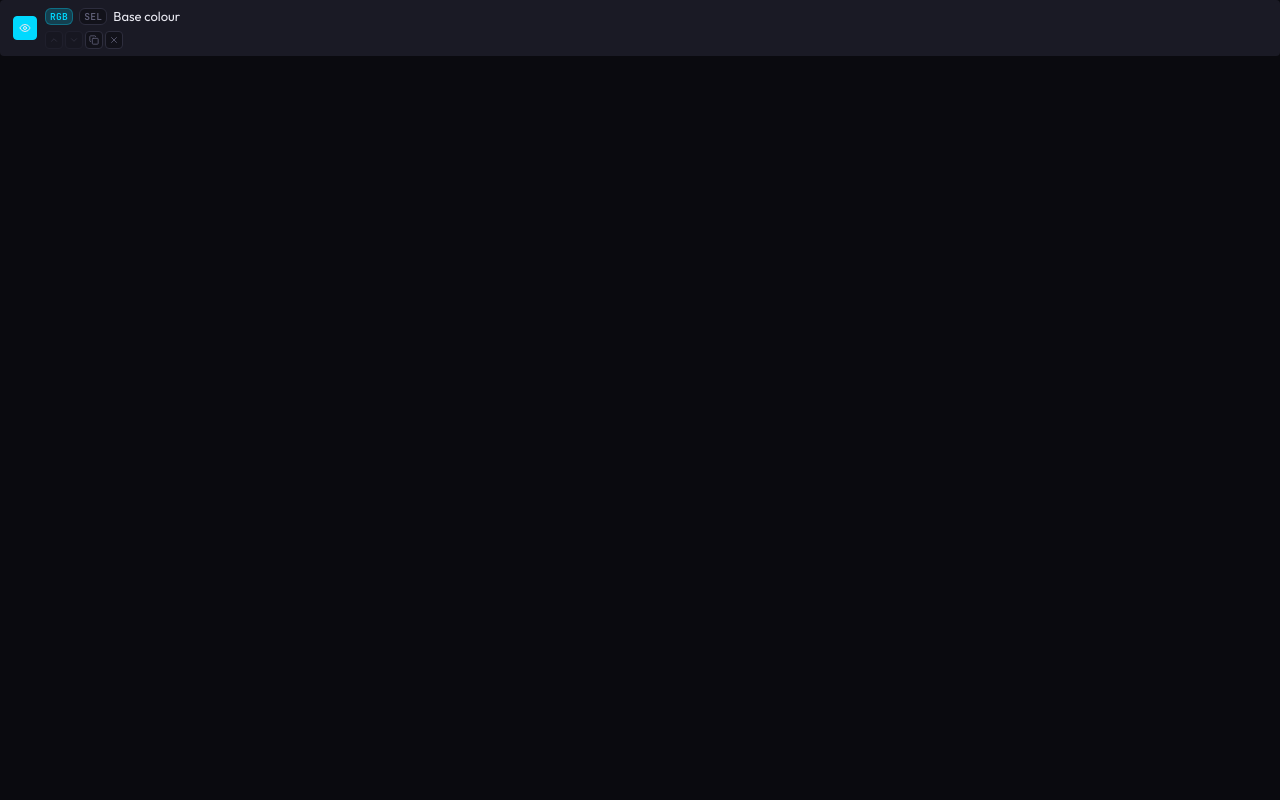
Test: the colour-source badge (plan 13) › the channel badge's menu carries the source section too, and stays one menu
Click the button with aria-label "Channel:" at (59, 17), box top-left (45, 8), bottom-right (73, 25)
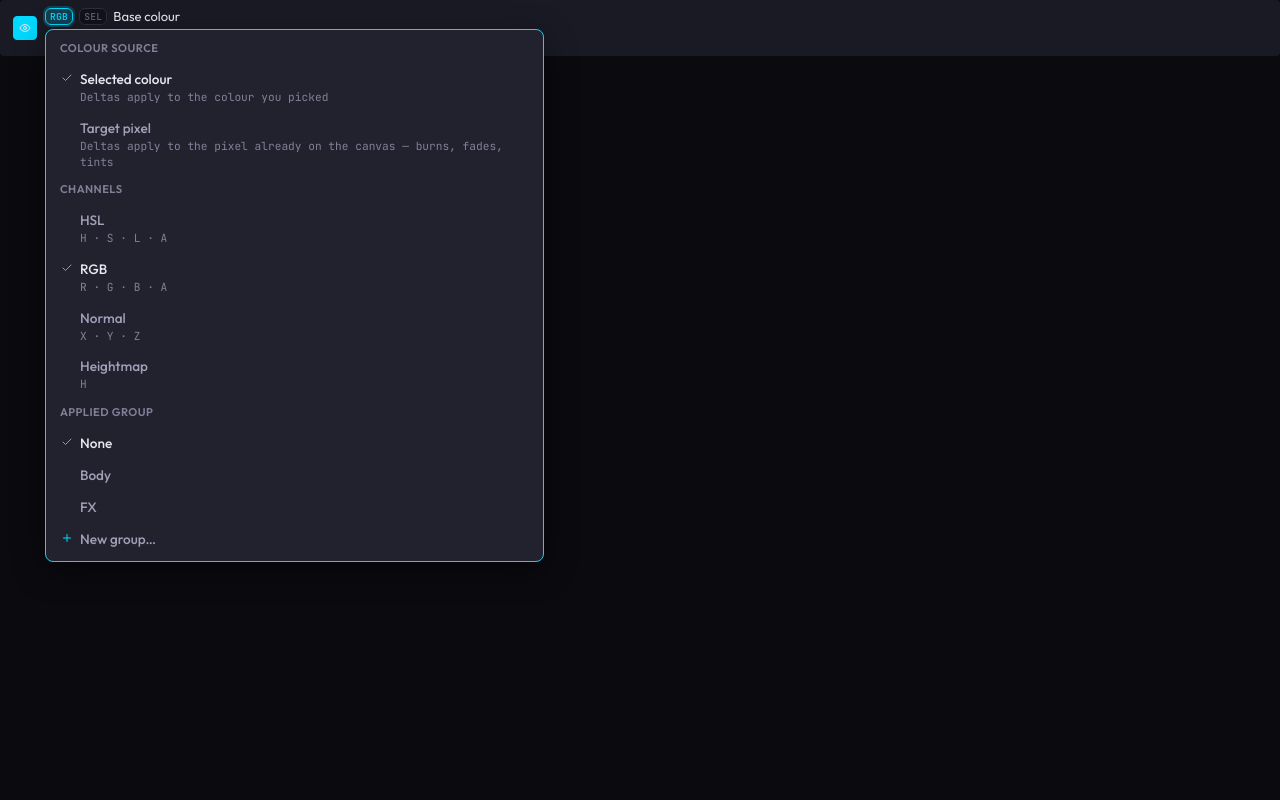
Check: the button with aria-label "Channel:" is expanded, box top-left (45, 8), bottom-right (73, 25)
Check: the number of menus is 1, box top-left (45, 30), bottom-right (544, 562)
Pressing the other badge while open re-anchors rather than stacking.
Click the button with aria-label "Colour source:" at (93, 17), box top-left (79, 8), bottom-right (107, 25)
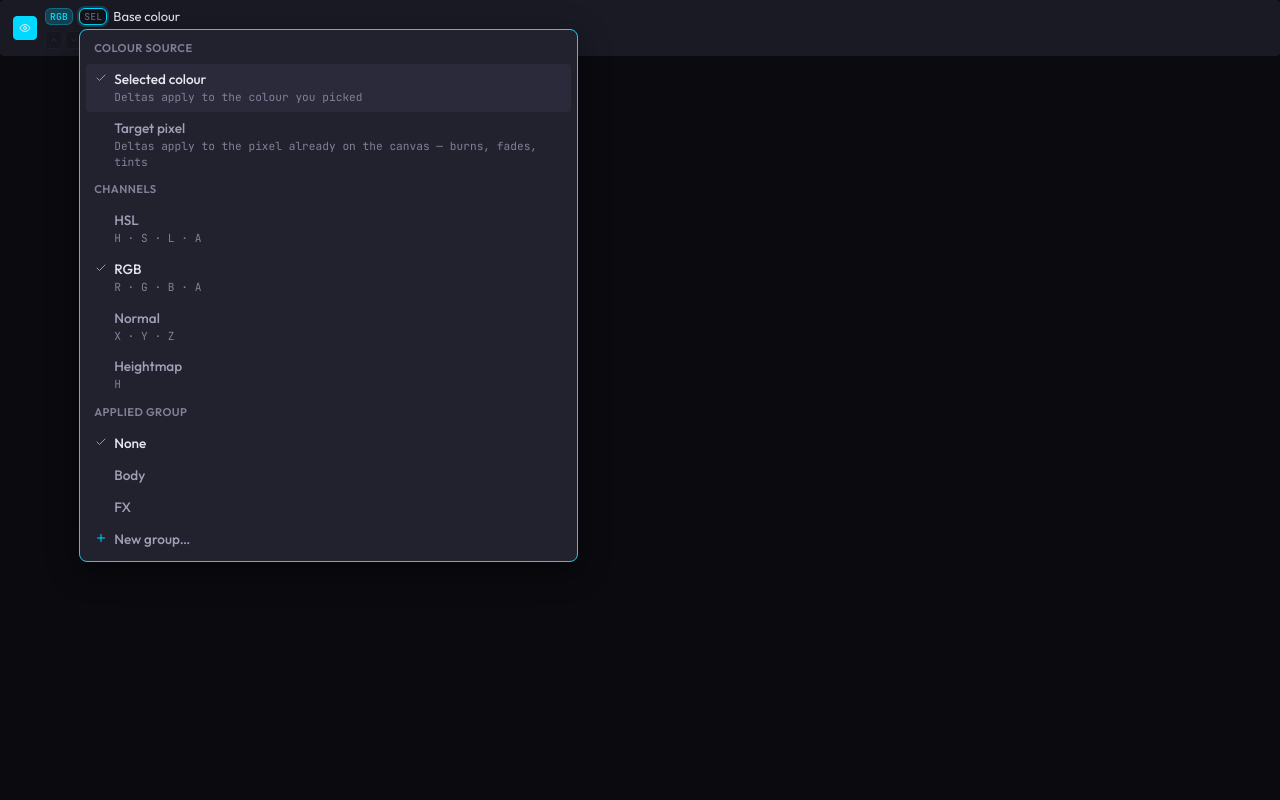
Check: the number of menus is 1, box top-left (79, 30), bottom-right (578, 562)
Check: the button with aria-label "Colour source:" is expanded
Check: the button with aria-label "Channel:" is collapsed, box top-left (45, 8), bottom-right (73, 25)
And its own second press toggles it shut, like the channel badge.
Click the button with aria-label "Colour source:" at (93, 17), box top-left (79, 8), bottom-right (107, 25)
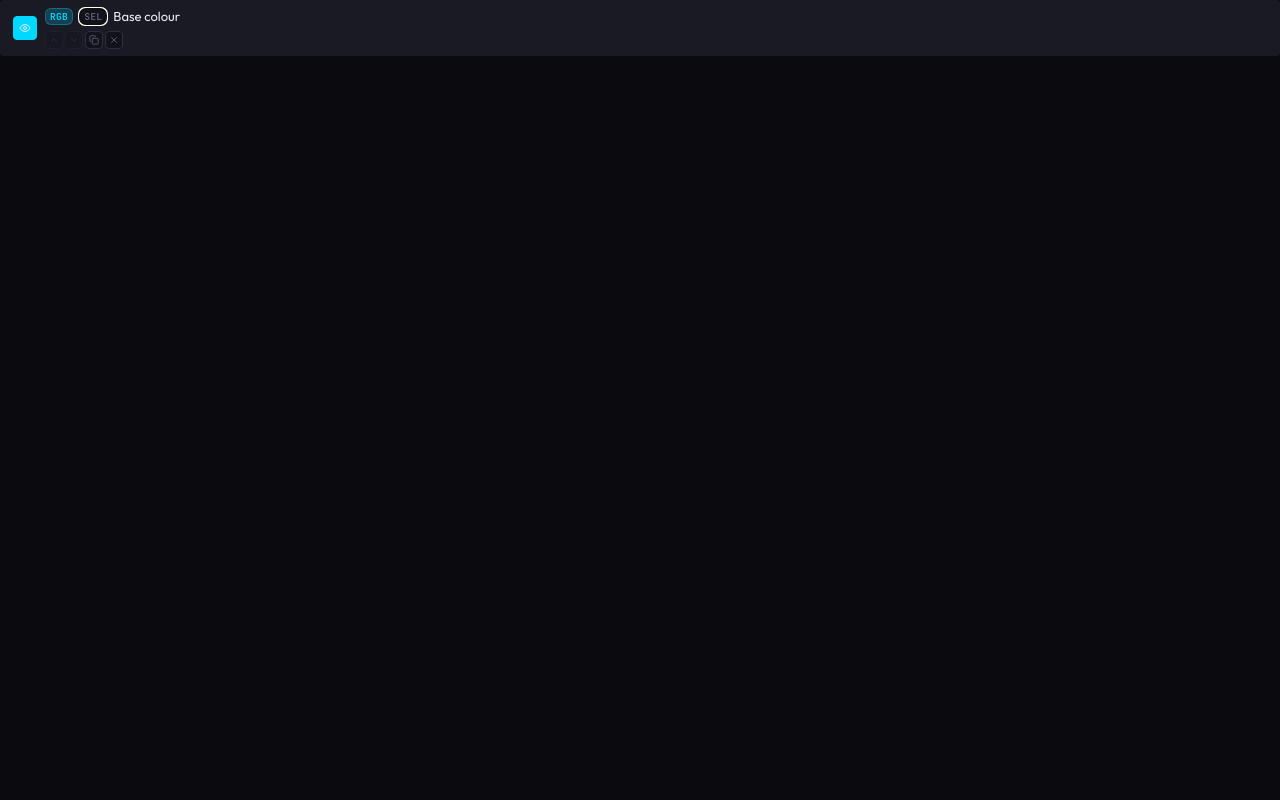
Check: the menu is gone
